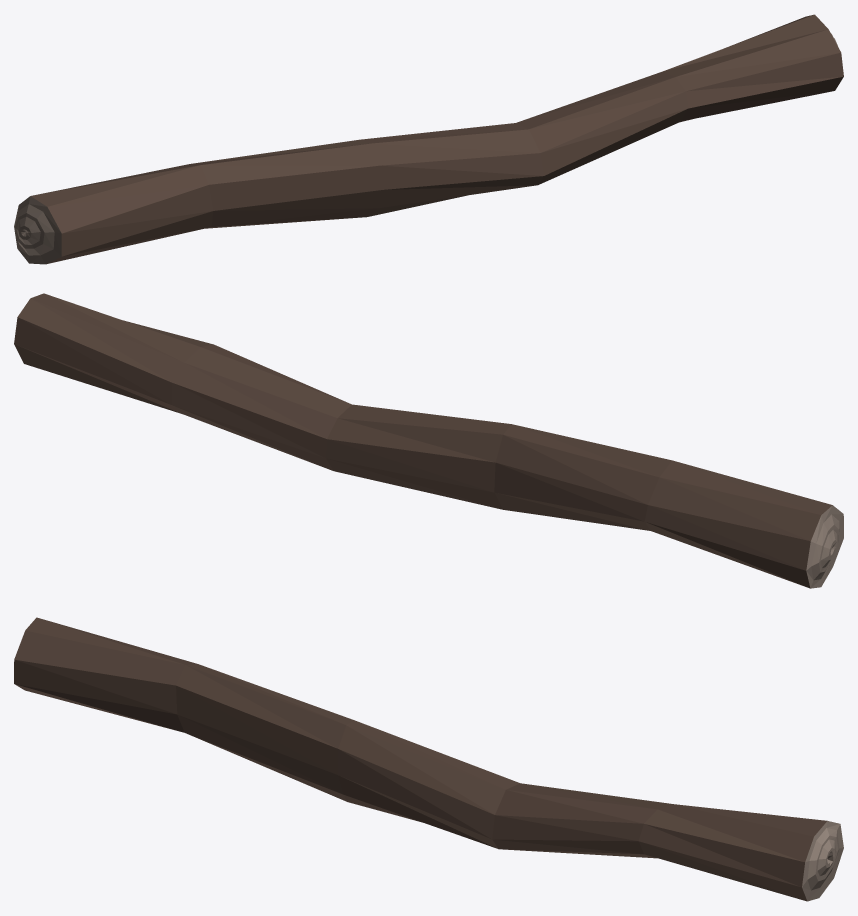
File: wooden_stick_1.fbx
3 renders of one model, top to bottom at view 1: azimuth 30°, elevation 25°; view 2: azimuth 150°, elevation 25°; view 3: azimuth 330°, elevation 25°, orthographic. The views are drawn at different scales.
Parts seen in each view (by area): view 1: Wooden_Stick_I; view 2: Wooden_Stick_I; view 3: Wooden_Stick_I.
Boxes of the visible parts, x1,y1,x2,y2 form: Wooden_Stick_I: [14, 14, 843, 264]; Wooden_Stick_I: [14, 293, 843, 588]; Wooden_Stick_I: [14, 617, 843, 901].
Bounding box in the file's own units: 72.2 × 9.32 × 8.11.
